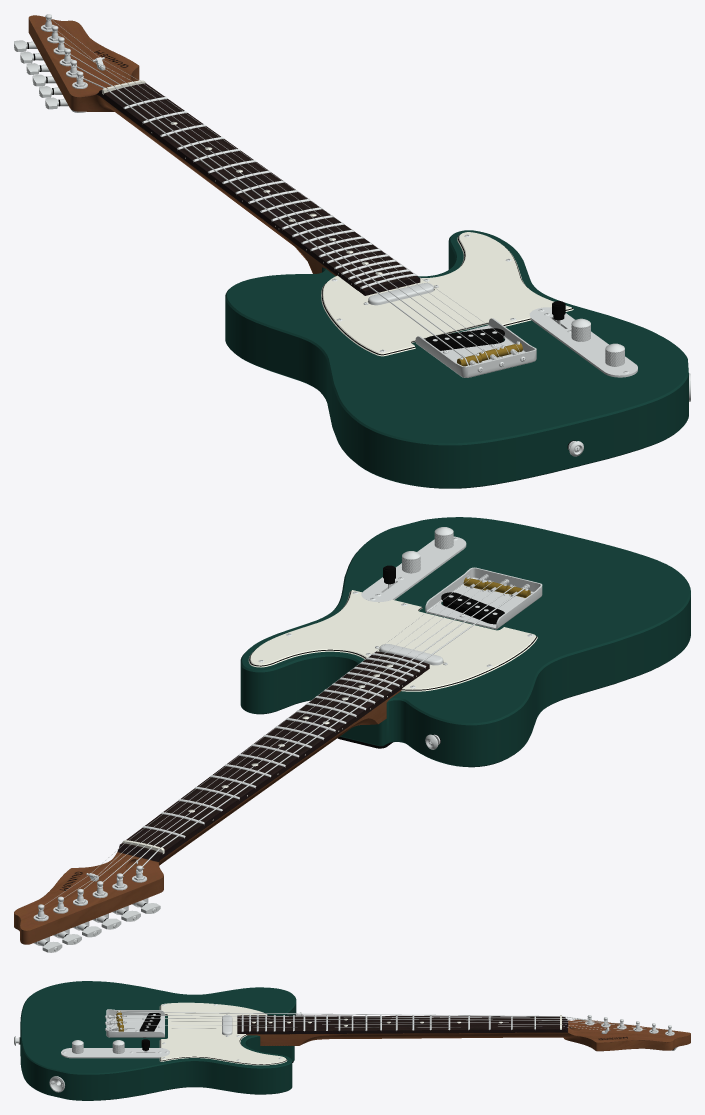
File: full-tele13.glb
3 views of the same model, one above another, from view 1: azimuth 30°, elevation 25°; view 2: azimuth 150°, elevation 25°; view 3: azimuth 270°, elevation 25° (orthographic). The views are drawn at different scales.
Parts seen in each view (by area): view 1: body, p3.001, 5new-board, new-neck, bridge5.001, knob-plate, bridge-pu, string6-merged.001, string5-merged.001, neck-pu; view 2: body, p3.001, 5new-board, new-neck, bridge5.001, knob-plate, bridge-pu, string6-merged.001, string5-merged.001; view 3: body, 5new-board, new-neck, p3.001, bridge5.001, knob-plate, string6-merged.001, string5-merged.001, string4-merged.003, string3-merged.002, s2.003, string1-merged.003 (+3 smaller).
Boxes of the visible parts, x1=… form: body: x1=225, y1=230, x2=688, y2=488; p3.001: x1=322, y1=232, x2=571, y2=354; 5new-board: x1=96, y1=83, x2=420, y2=295; new-neck: x1=28, y1=15, x2=336, y2=275; bridge5.001: x1=415, y1=318, x2=536, y2=377; knob-plate: x1=529, y1=307, x2=637, y2=377; bridge-pu: x1=425, y1=328, x2=504, y2=350; string6-merged.001: x1=76, y1=76, x2=468, y2=365; string5-merged.001: x1=70, y1=64, x2=479, y2=363; neck-pu: x1=368, y1=283, x2=433, y2=305; body: x1=240, y1=517, x2=690, y2=767; p3.001: x1=250, y1=590, x2=536, y2=689; 5new-board: x1=117, y1=651, x2=429, y2=861; new-neck: x1=14, y1=689, x2=401, y2=944; bridge5.001: x1=425, y1=567, x2=542, y2=629; knob-plate: x1=361, y1=536, x2=466, y2=602; bridge-pu: x1=441, y1=592, x2=505, y2=624; string6-merged.001: x1=136, y1=588, x2=531, y2=874; string5-merged.001: x1=116, y1=585, x2=515, y2=881; body: x1=20, y1=981, x2=296, y2=1100; 5new-board: x1=237, y1=1015, x2=567, y2=1034; new-neck: x1=246, y1=1019, x2=690, y2=1051; p3.001: x1=160, y1=1002, x2=286, y2=1064; bridge5.001: x1=106, y1=1009, x2=164, y2=1037; knob-plate: x1=61, y1=1048, x2=169, y2=1058; string6-merged.001: x1=110, y1=1011, x2=591, y2=1020; string5-merged.001: x1=110, y1=1015, x2=607, y2=1021; string4-merged.003: x1=110, y1=1018, x2=623, y2=1024; string3-merged.002: x1=110, y1=1021, x2=639, y2=1027; s2.003: x1=116, y1=1024, x2=655, y2=1028; string1-merged.003: x1=116, y1=1026, x2=671, y2=1030.
Bounding box in the file's own units: 0.324 × 0.0704 × 0.994.
Materials: 12 (2 with a texture image).
